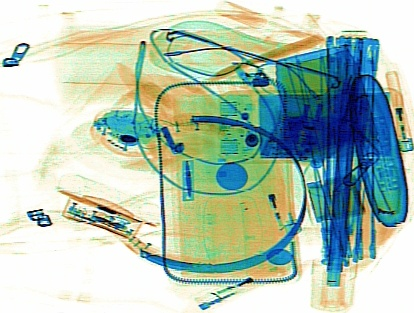lighter: (254, 160, 301, 237), (384, 68, 412, 153), (195, 273, 254, 309)
